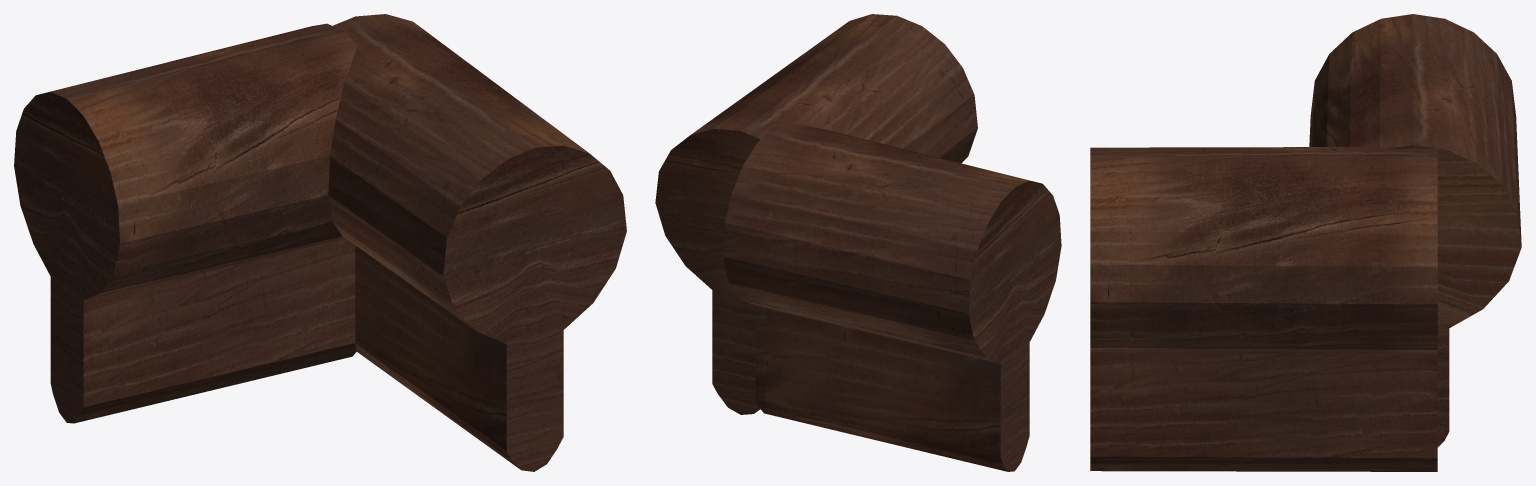
File: SM_R_DancheongCorner_10.fbx
The picture shows the model from 3 angles, left to right: view 1: azimuth 30°, elevation 25°; view 2: azimuth 150°, elevation 25°; view 3: azimuth 270°, elevation 25°; orthographic projection. The views are drawn at different scales.
Visible parts, largest first — view 1: SM_R_DancheongCorner_10; view 2: SM_R_DancheongCorner_10; view 3: SM_R_DancheongCorner_10.
Boxes of the visible parts, x1,y1,x2,y2 form: SM_R_DancheongCorner_10: (14, 14, 626, 471); SM_R_DancheongCorner_10: (655, 14, 1061, 471); SM_R_DancheongCorner_10: (1090, 14, 1521, 471).
Size of the model in its own units: 56.81 by 55.08 by 44.19.
1 material, 1 textured.
